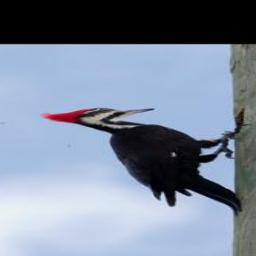Woodpecker: (40, 107, 250, 215)
